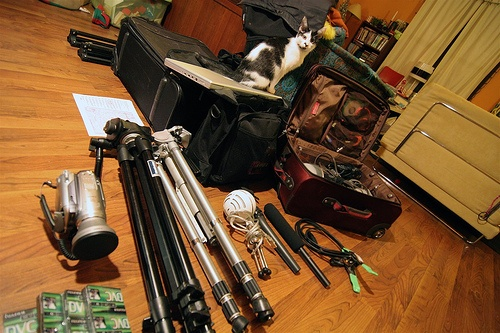cat: (193, 16, 500, 113)
